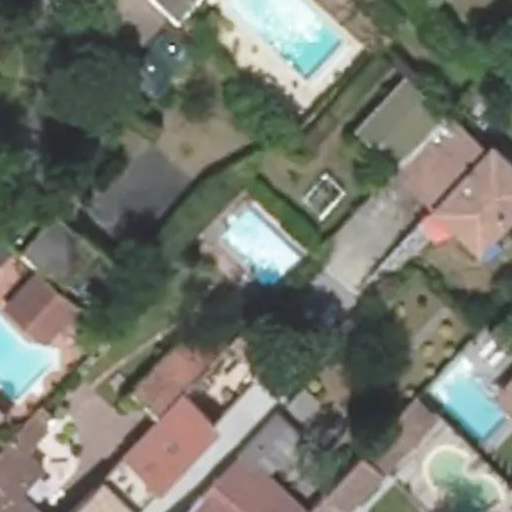pool: (213, 231, 298, 253)
